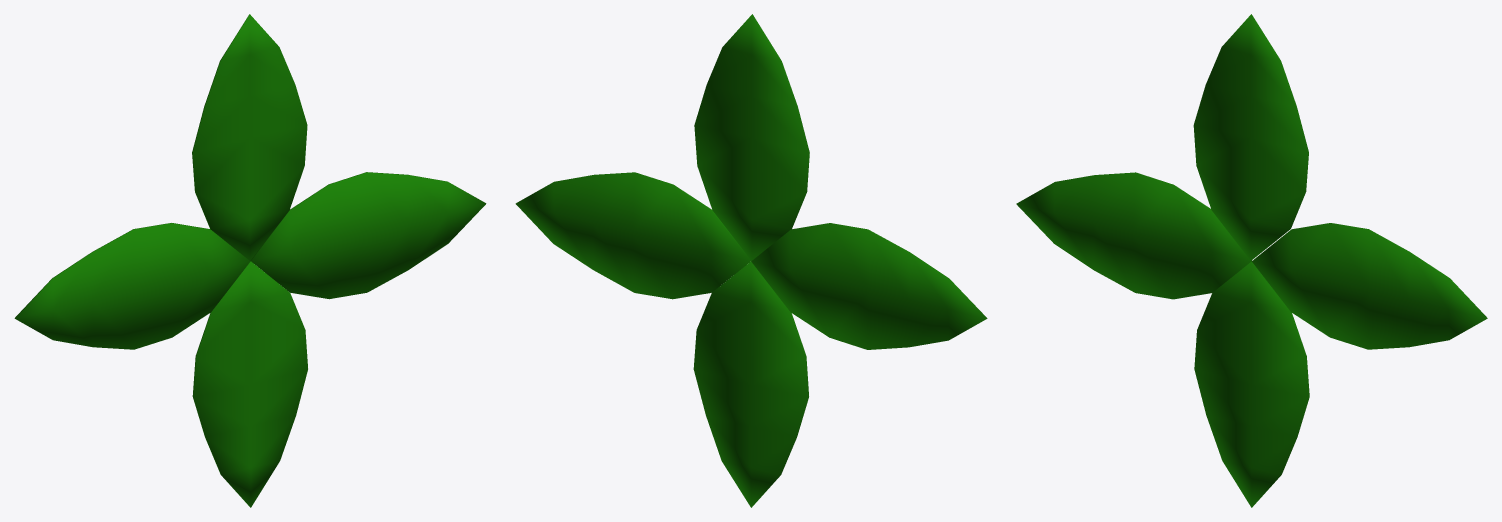
File: Leafs.fbx
The picture shows the model from 3 angles, left to right: view 1: azimuth 30°, elevation 25°; view 2: azimuth 150°, elevation 25°; view 3: azimuth 330°, elevation 25°; orthographic projection.
Parts seen in each view (by area): view 1: Plane.003, Plane.002, Plane.004, Plane.001; view 2: Plane.003, Plane.004, Plane.002, Plane.001; view 3: Plane.003, Plane.004, Plane.001, Plane.002.
Part boxes in pixels (x1=…): Plane.003: x1=192, y1=14, x2=307, y2=260; Plane.002: x1=14, y1=223, x2=250, y2=349; Plane.004: x1=250, y1=172, x2=486, y2=299; Plane.001: x1=192, y1=261, x2=307, y2=507; Plane.003: x1=694, y1=14, x2=809, y2=260; Plane.004: x1=515, y1=172, x2=751, y2=299; Plane.002: x1=751, y1=223, x2=987, y2=349; Plane.001: x1=693, y1=261, x2=808, y2=507; Plane.003: x1=1193, y1=14, x2=1308, y2=260; Plane.004: x1=1252, y1=223, x2=1487, y2=349; Plane.001: x1=1194, y1=261, x2=1309, y2=507; Plane.002: x1=1016, y1=172, x2=1251, y2=299.
Bounding box in the file's own units: 525 × 525 × 1.72.
Materials: 1 (1 with a texture image).
